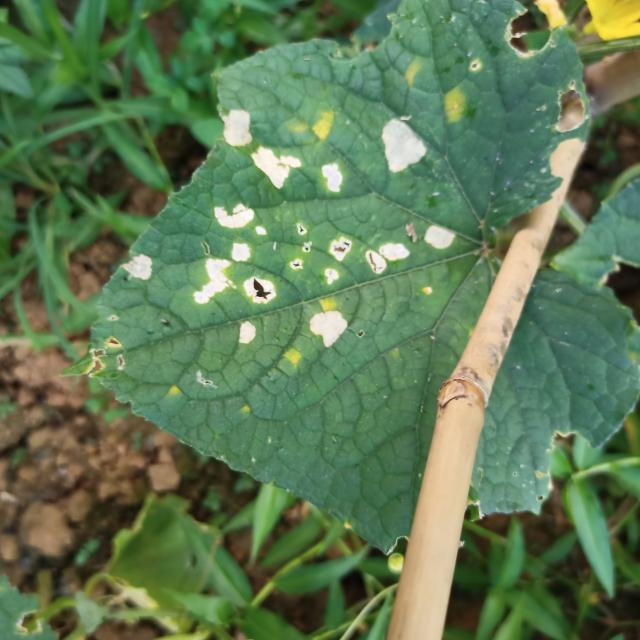disease_cucumber: (191, 195, 415, 352), (372, 112, 431, 176), (250, 145, 302, 190), (417, 216, 461, 258), (214, 106, 254, 147), (302, 100, 337, 146), (315, 160, 350, 202), (438, 84, 471, 128), (118, 255, 162, 282), (402, 54, 428, 95), (315, 292, 345, 312), (280, 345, 307, 366)
